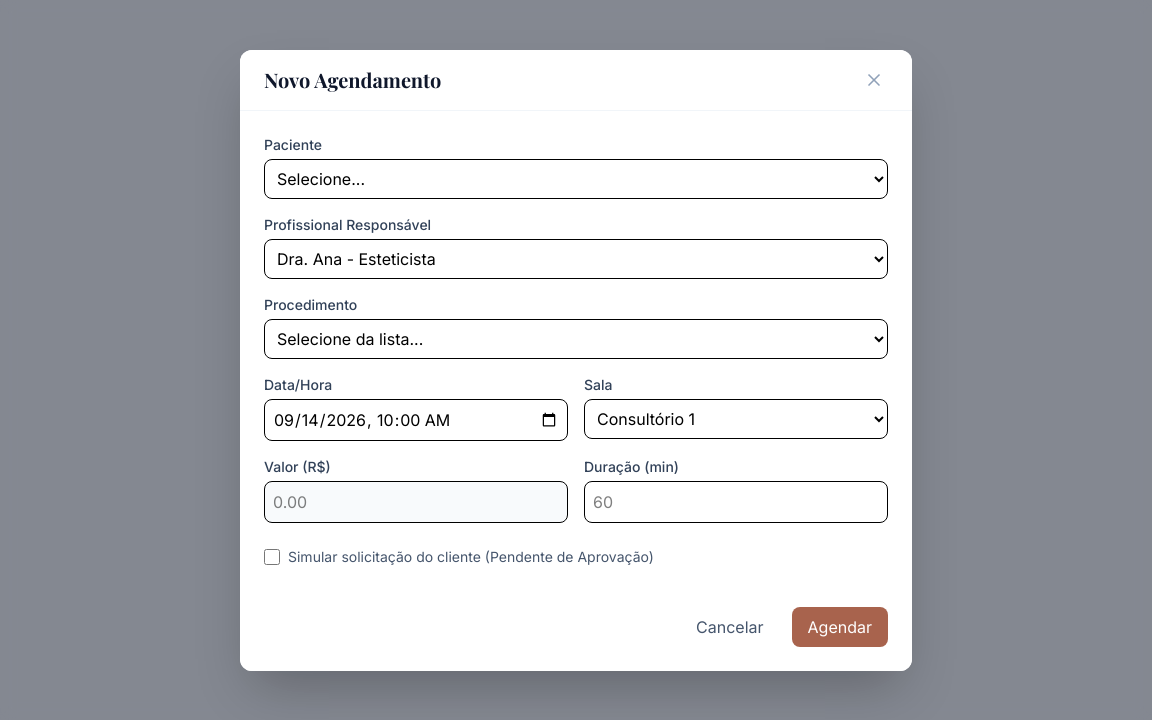
NewAppointmentModal — seleção de plano (Promoção) › selecionar "Promoção X" via handleProcedureChange zera o preço
The image size is (1152, 720).
Select "Promoção Verão" in the dropdown below "Procedimento". click: point(576, 338)
box: left=264, top=318, right=888, bottom=358
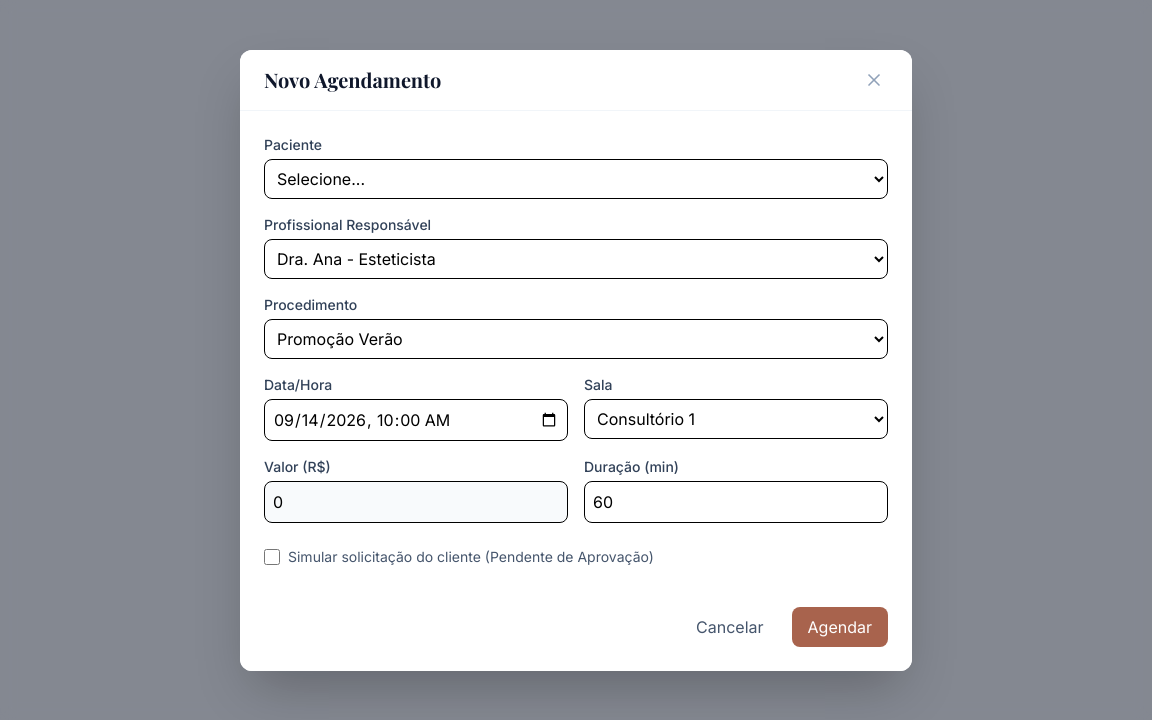
expect the number field with placeholder "0.00" below "Valor (R$)" holds "0": met, box left=264, top=480, right=568, bottom=522
